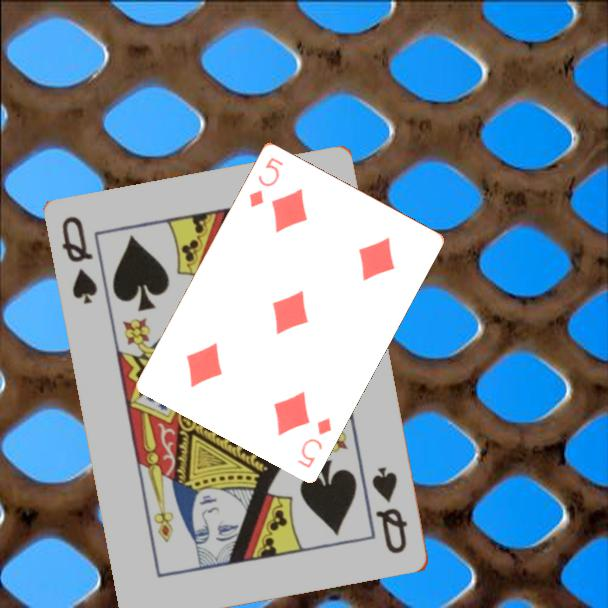d05: (293, 413, 335, 471), (245, 153, 286, 210)
s12: (59, 213, 101, 308), (369, 463, 411, 557)
